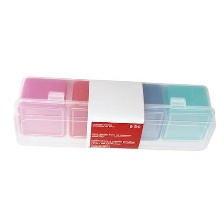plastic_box: (7, 70, 220, 159)
